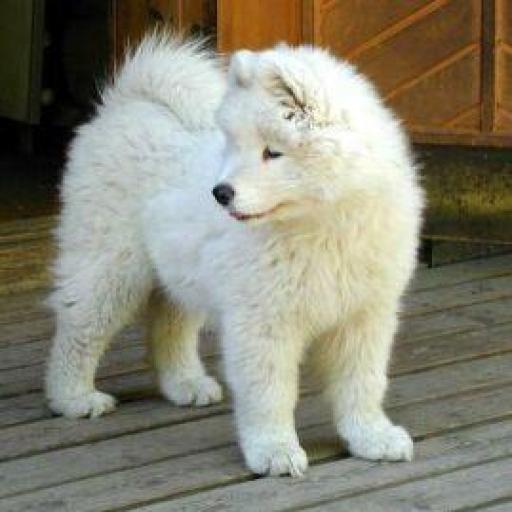dog_face: (211, 56, 350, 228)
